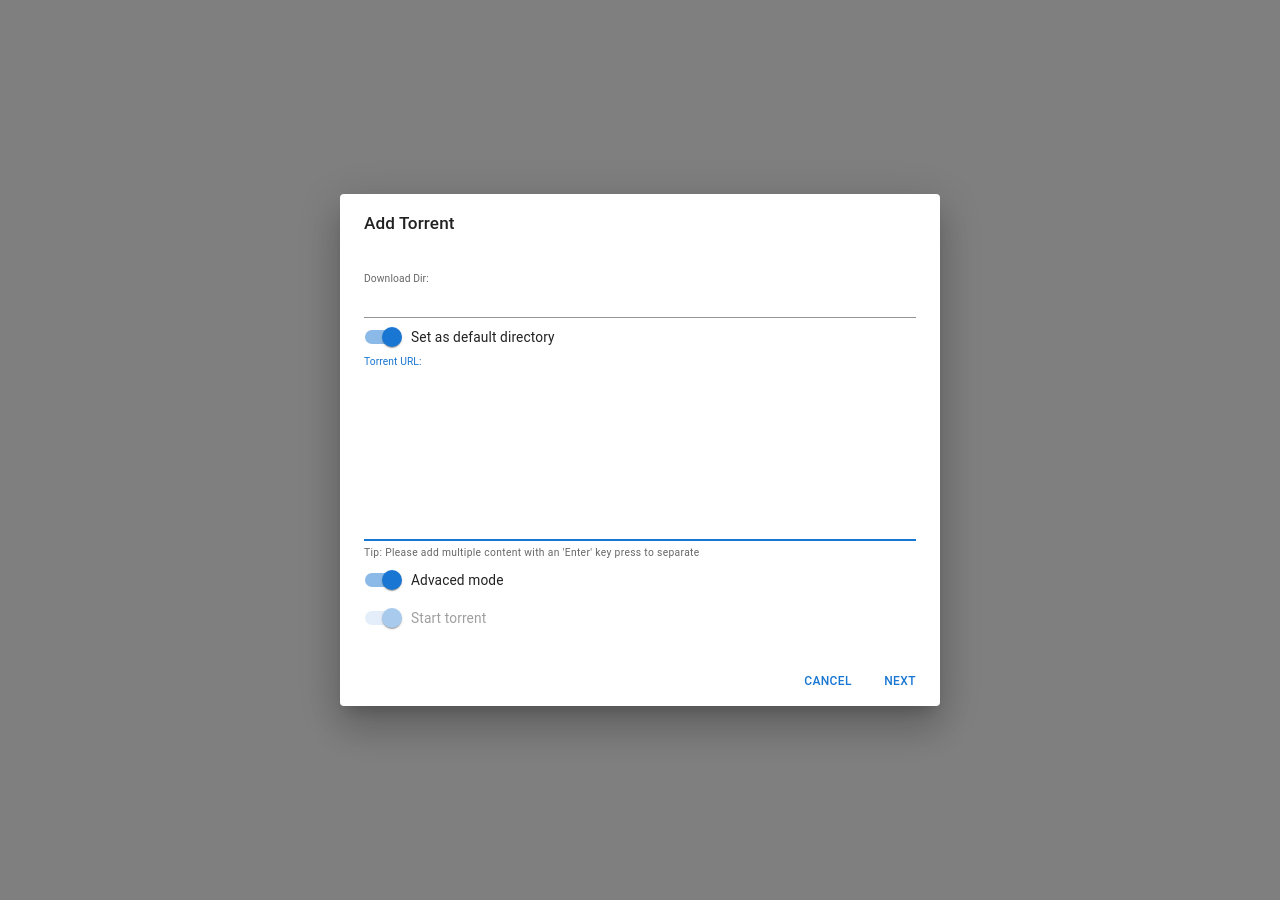
test AddTorrentDialog › auto start should be disabled in advanced mode
This screenshot has width=1280, height=900.
Expected: the checkbox with test id "auto-start" is disabled, [365, 608, 486, 628]
Note: switch to basic mode
Click the checkbox with test id "advanced-mode" at point(434, 580), box [365, 570, 504, 590]
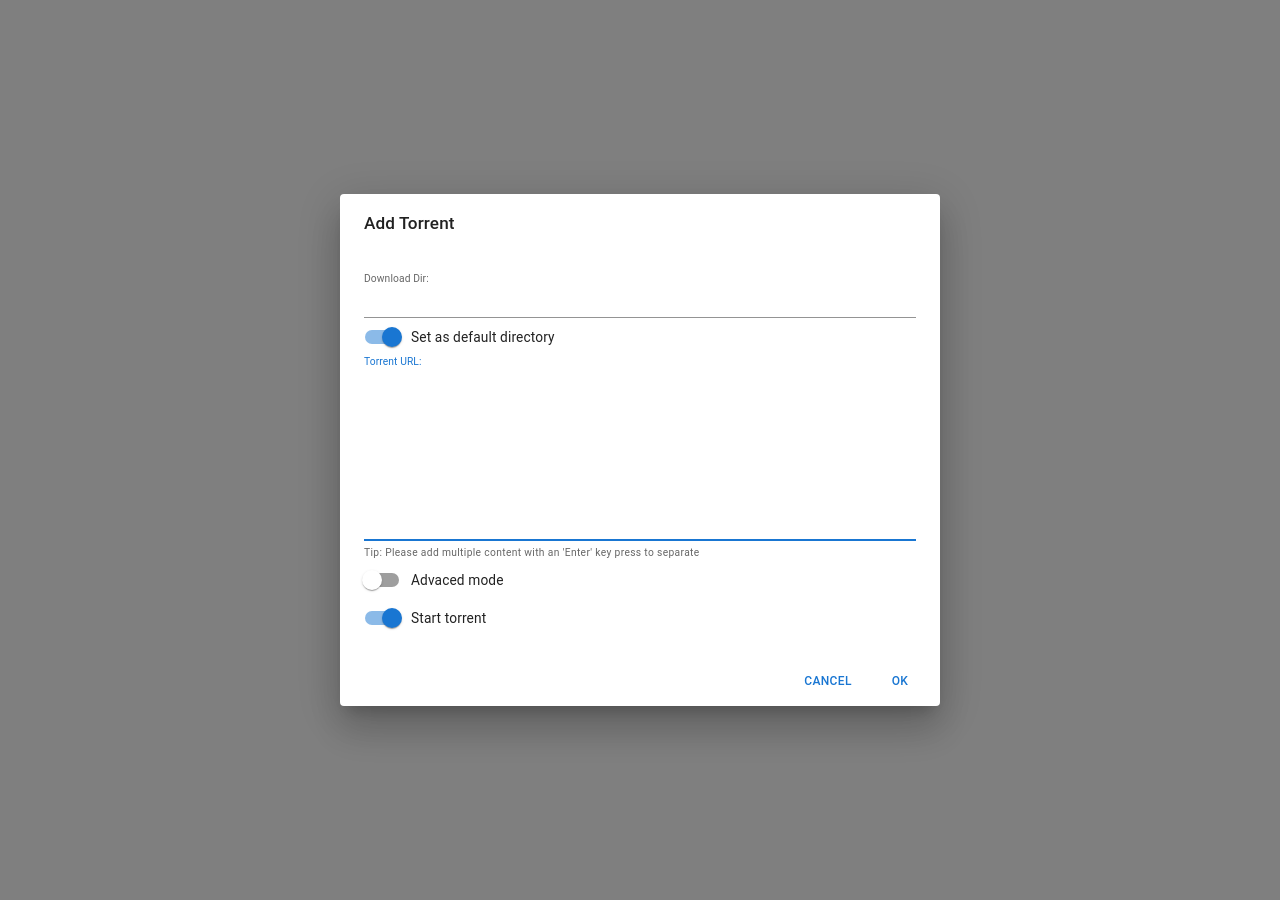
Now the checkbox with test id "auto-start" is enabled, box [365, 608, 486, 628]
